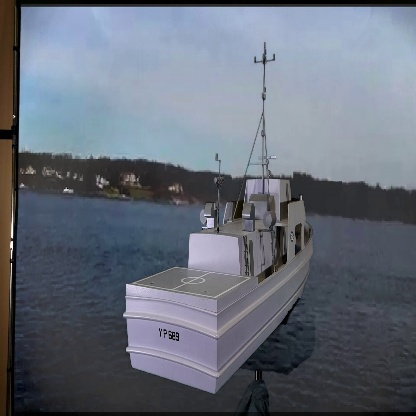YP689: (123, 43, 315, 395)
